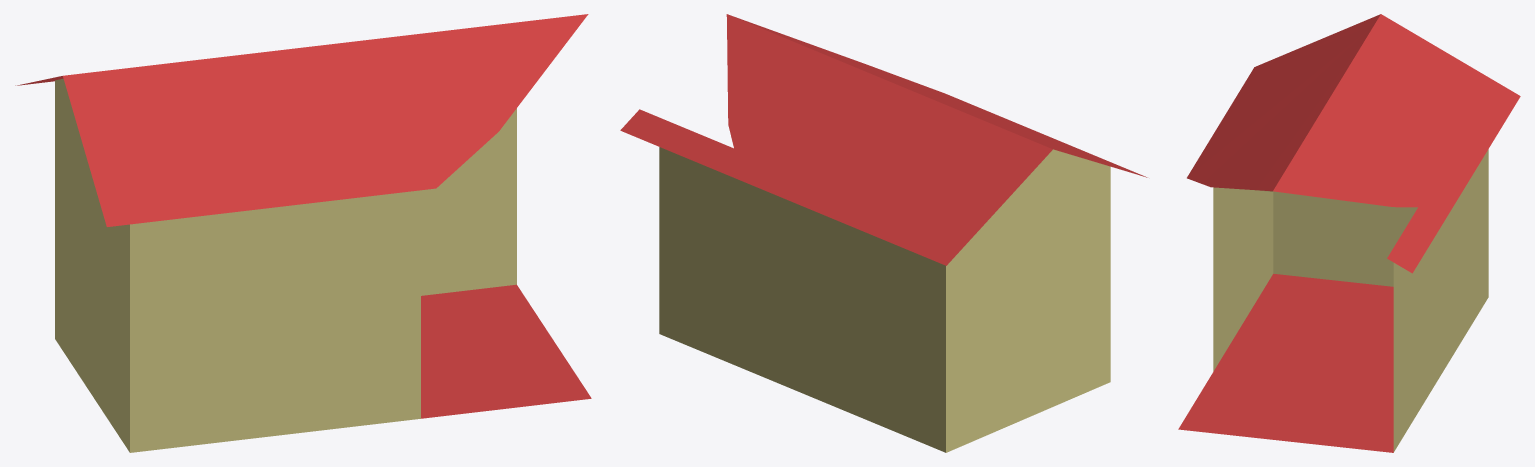
The picture shows the model from 3 angles, left to right: view 1: azimuth 30°, elevation 25°; view 2: azimuth 150°, elevation 25°; view 3: azimuth 270°, elevation 25°; orthographic projection. The views are drawn at different scales.
Size of the model in its own units: 13.89 by 9.74 by 8.15.
